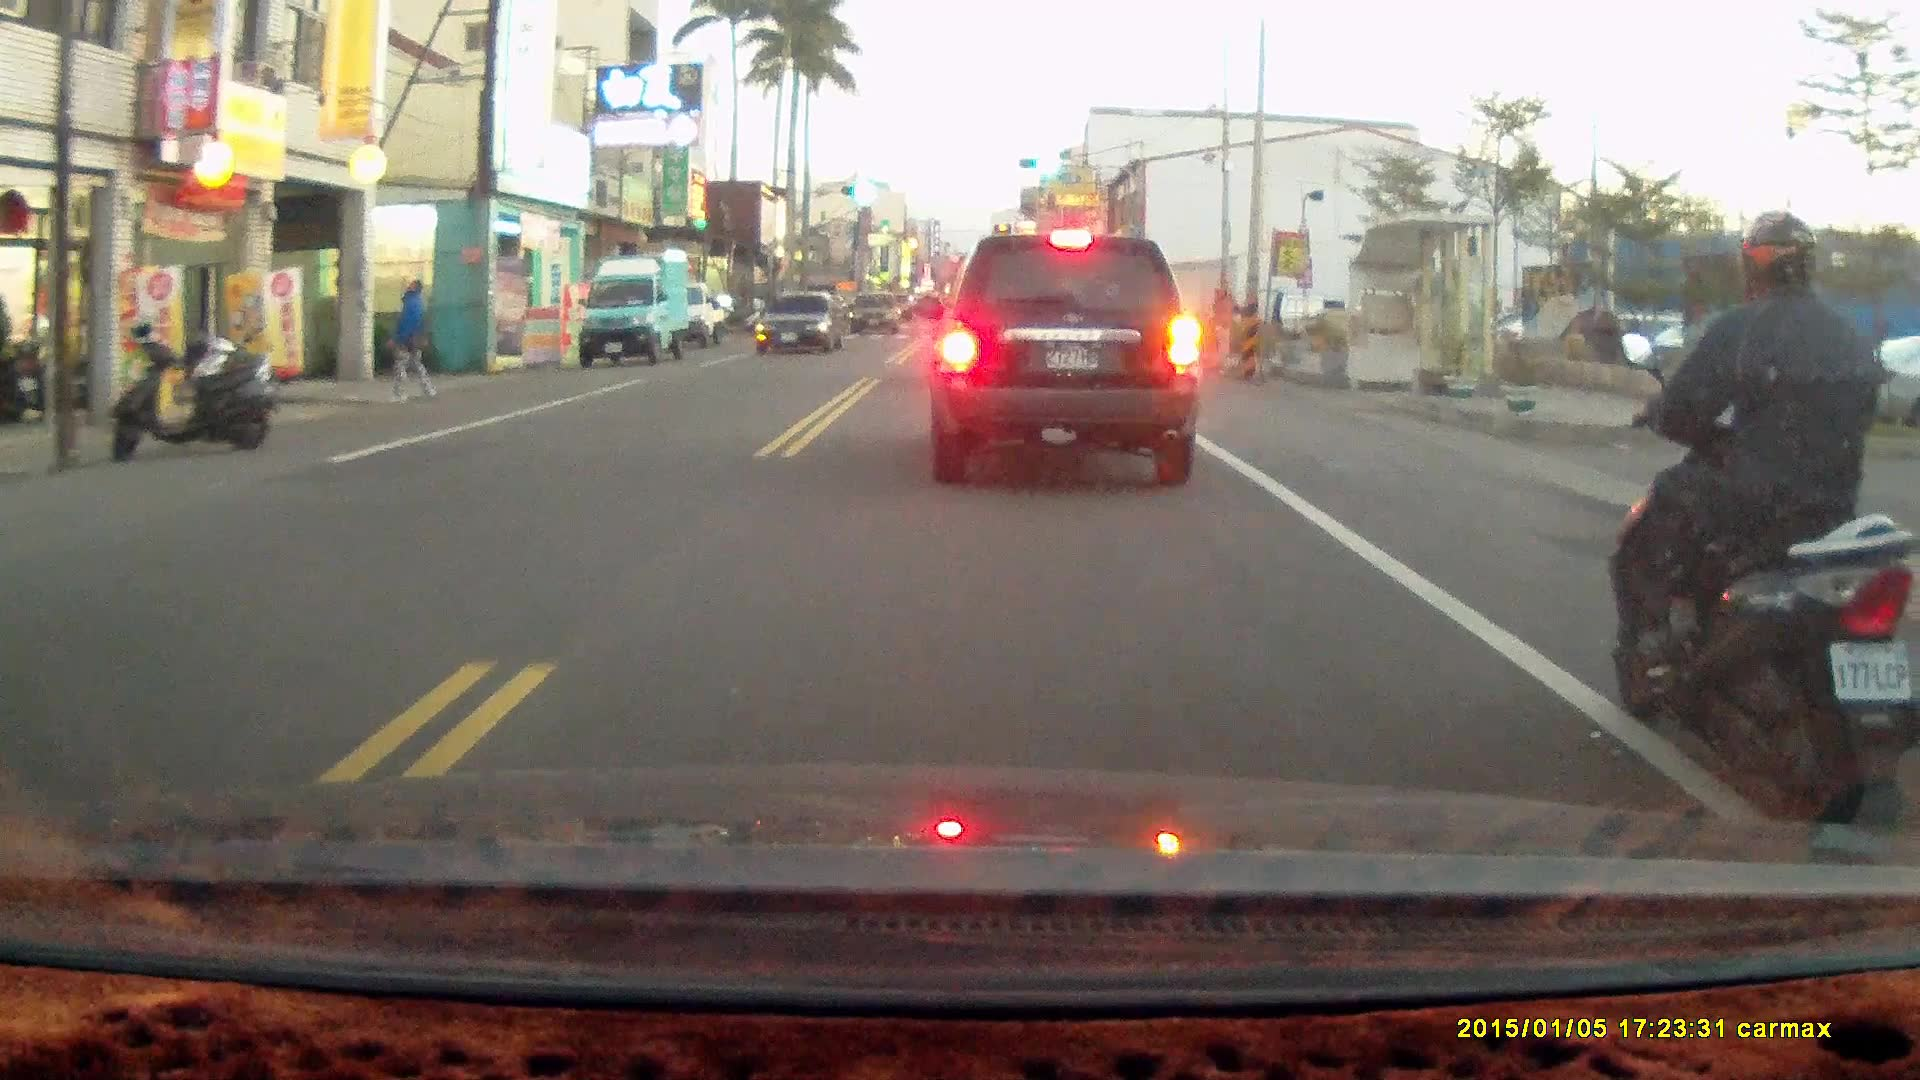pedestrian: (386, 274, 438, 405)
rider: (1607, 208, 1915, 827)
vehicle: (923, 229, 1205, 483), (578, 261, 695, 370), (755, 289, 851, 356), (849, 293, 903, 338)
